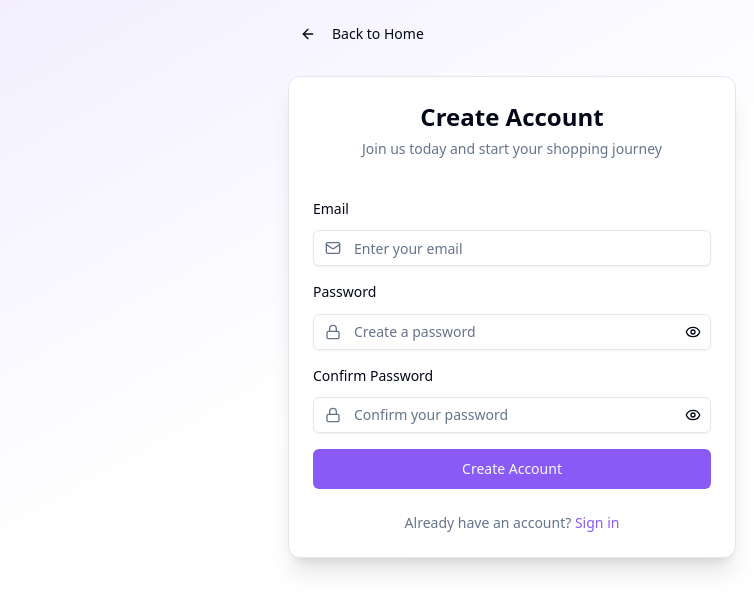
Test: RegisterForm › shows fallback error message when no specific error is provided
In the field with placeholder "Enter your email": (512, 248) [313, 230, 711, 266], type "test@example.com"
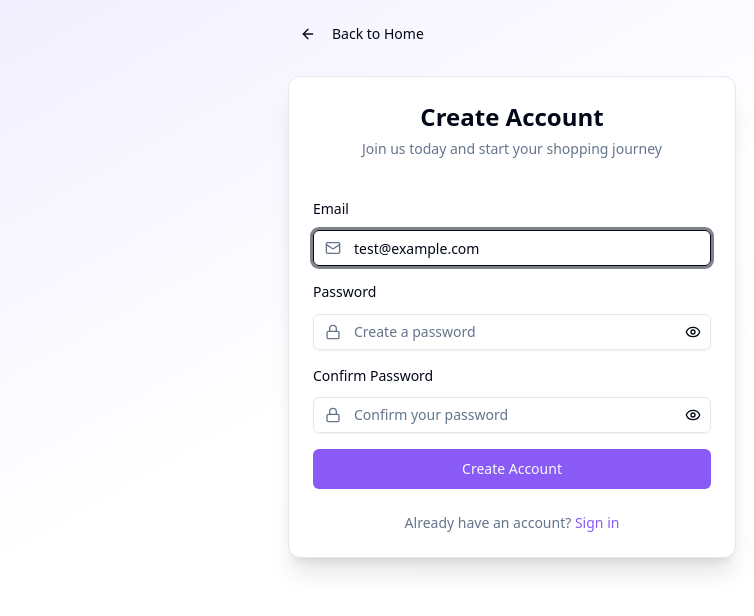
In the password field with placeholder "Create a password": (512, 332) [313, 314, 711, 350], type "password123"
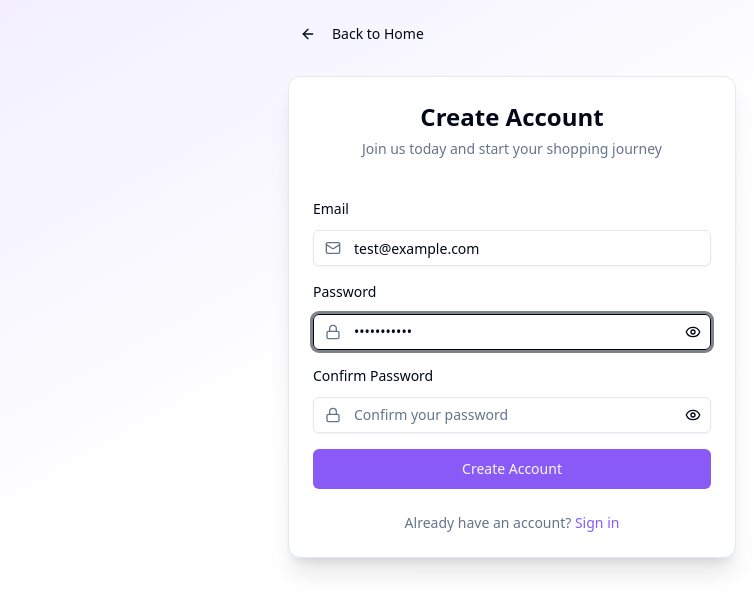
In the password field with placeholder "Confirm your password": (512, 415) [313, 397, 711, 433], type "password123"
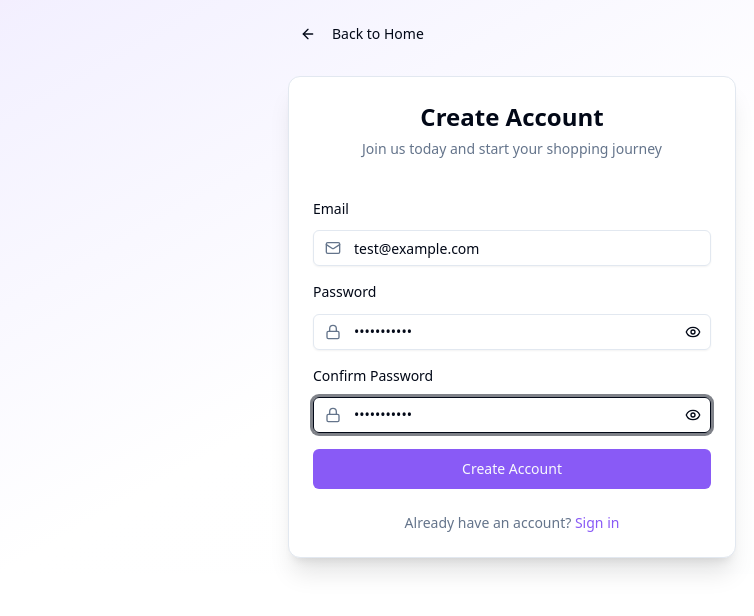
Click the button "Create Account": (512, 469) [313, 449, 711, 489]
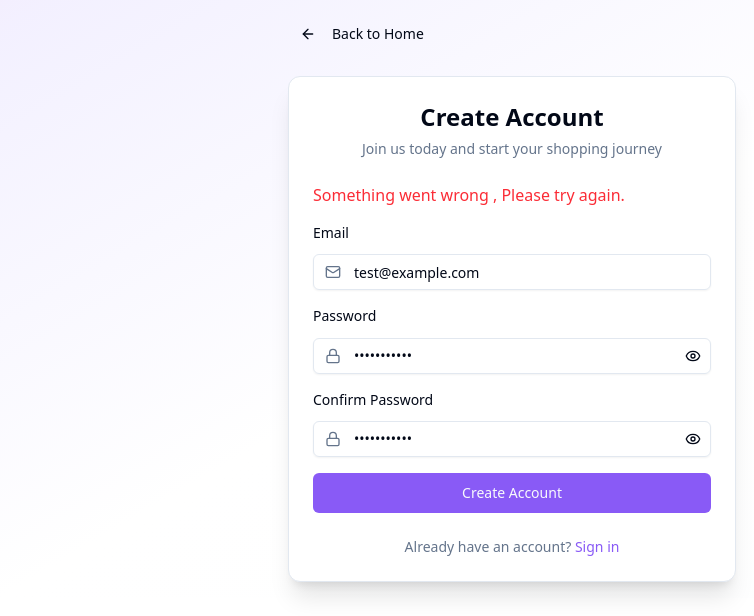
Expected: the text "Something went wrong , Please try again." is shown, [313, 184, 625, 206]
